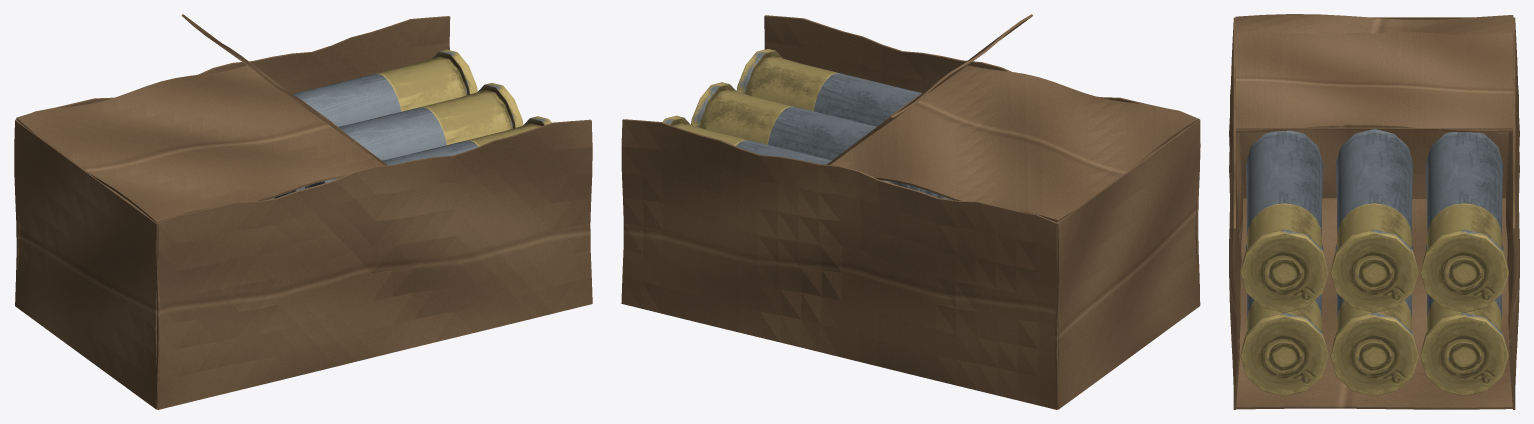
File: ShotgunScrapshotBox.fbx
The picture shows the model from 3 angles, left to right: view 1: azimuth 30°, elevation 25°; view 2: azimuth 150°, elevation 25°; view 3: azimuth 270°, elevation 25°; orthographic projection.
Parts seen in each view (by area): view 1: ShotgunScrapshotBox, ShotgunScrapshotBox_Contents; view 2: ShotgunScrapshotBox, ShotgunScrapshotBox_Contents; view 3: ShotgunScrapshotBox_Contents, ShotgunScrapshotBox.
Part boxes in pixels (left/top/right/bottom): ShotgunScrapshotBox: left=14, top=14, right=592, bottom=409; ShotgunScrapshotBox_Contents: left=270, top=49, right=551, bottom=199; ShotgunScrapshotBox: left=621, top=14, right=1200, bottom=409; ShotgunScrapshotBox_Contents: left=662, top=49, right=951, bottom=199; ShotgunScrapshotBox_Contents: left=1240, top=129, right=1508, bottom=396; ShotgunScrapshotBox: left=1229, top=14, right=1519, bottom=409.
Bounding box in the file's own units: 24.64 × 13.61 × 14.39.
Materials: 2 (2 with a texture image).
